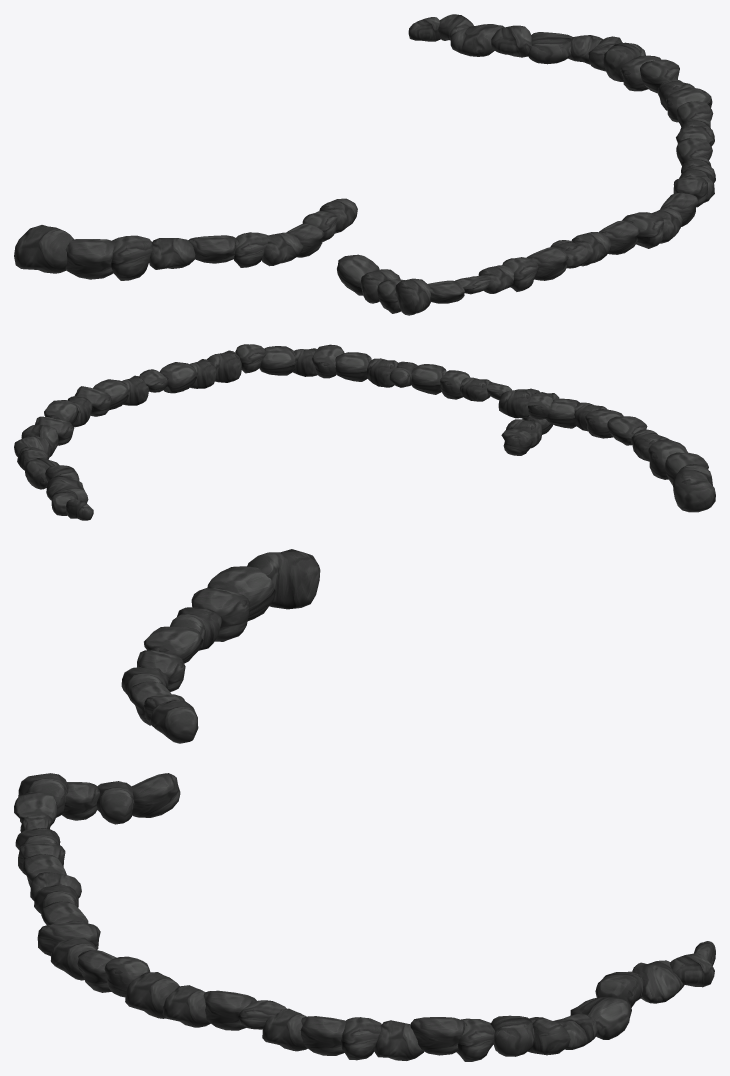
File: RCIMainBorderShape1.dae
The picture shows the model from 3 angles, top to bottom: view 1: azimuth 30°, elevation 25°; view 2: azimuth 150°, elevation 25°; view 3: azimuth 270°, elevation 25°; orthographic projection. The views are drawn at different scales.
Parts seen in each view (by area): view 1: RCIMainBorder1; view 2: RCIMainBorder1; view 3: RCIMainBorder1.
Boxes of the visible parts, x1=… form: RCIMainBorder1: x1=14, y1=14, x2=715, y2=315; RCIMainBorder1: x1=14, y1=344, x2=715, y2=520; RCIMainBorder1: x1=14, y1=549, x2=715, y2=1061.
Size of the model in its own units: 160 by 18.21 by 108.
